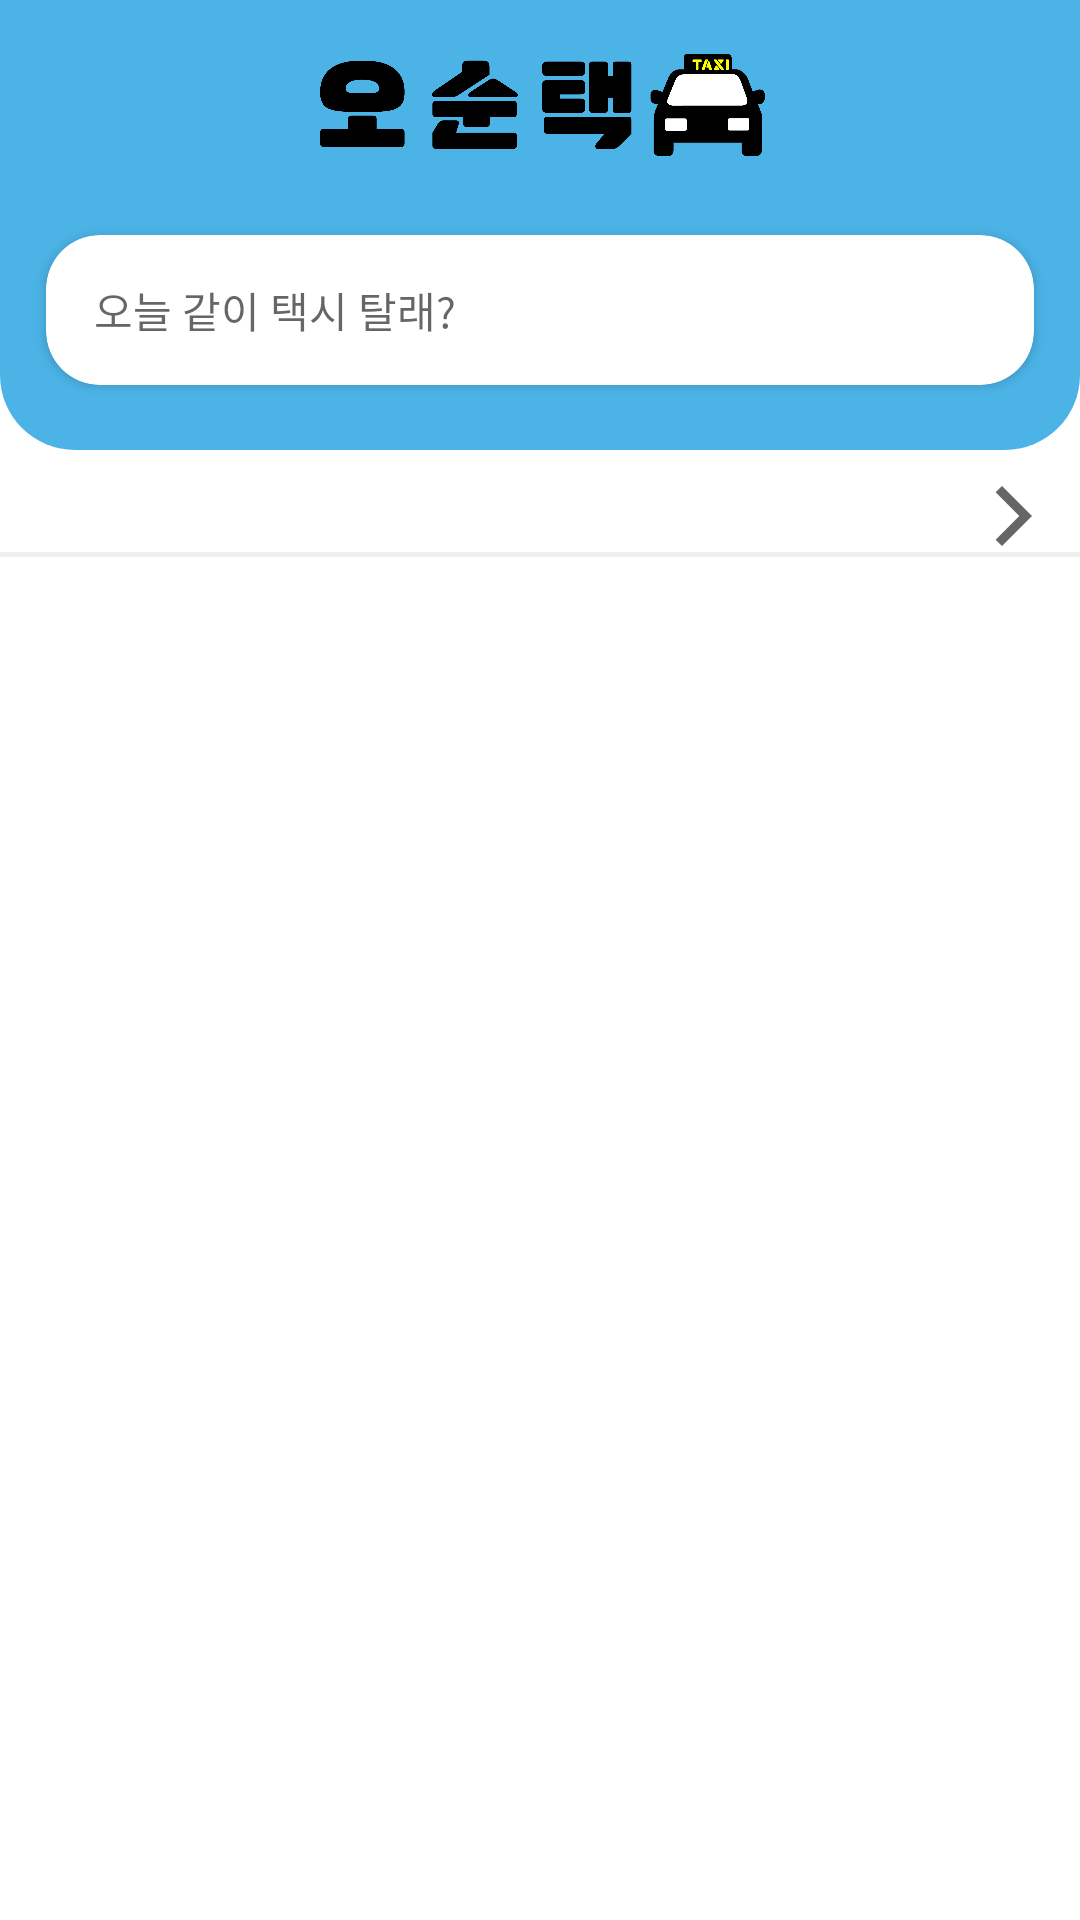

Screen size 1080×1920. Icon name, then its center in pixels as point (x, y):
Next: point (1014, 516)
